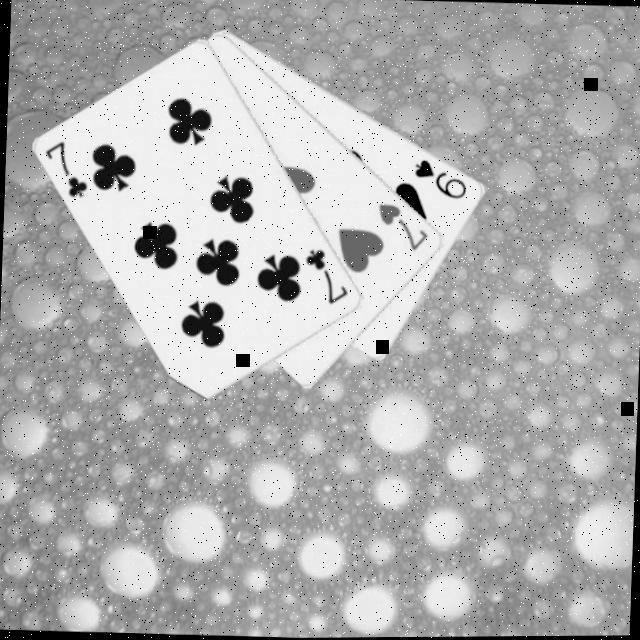7C: (42, 139, 94, 203), (302, 247, 354, 310)
7H: (374, 200, 434, 256)
9S: (412, 157, 472, 204)
